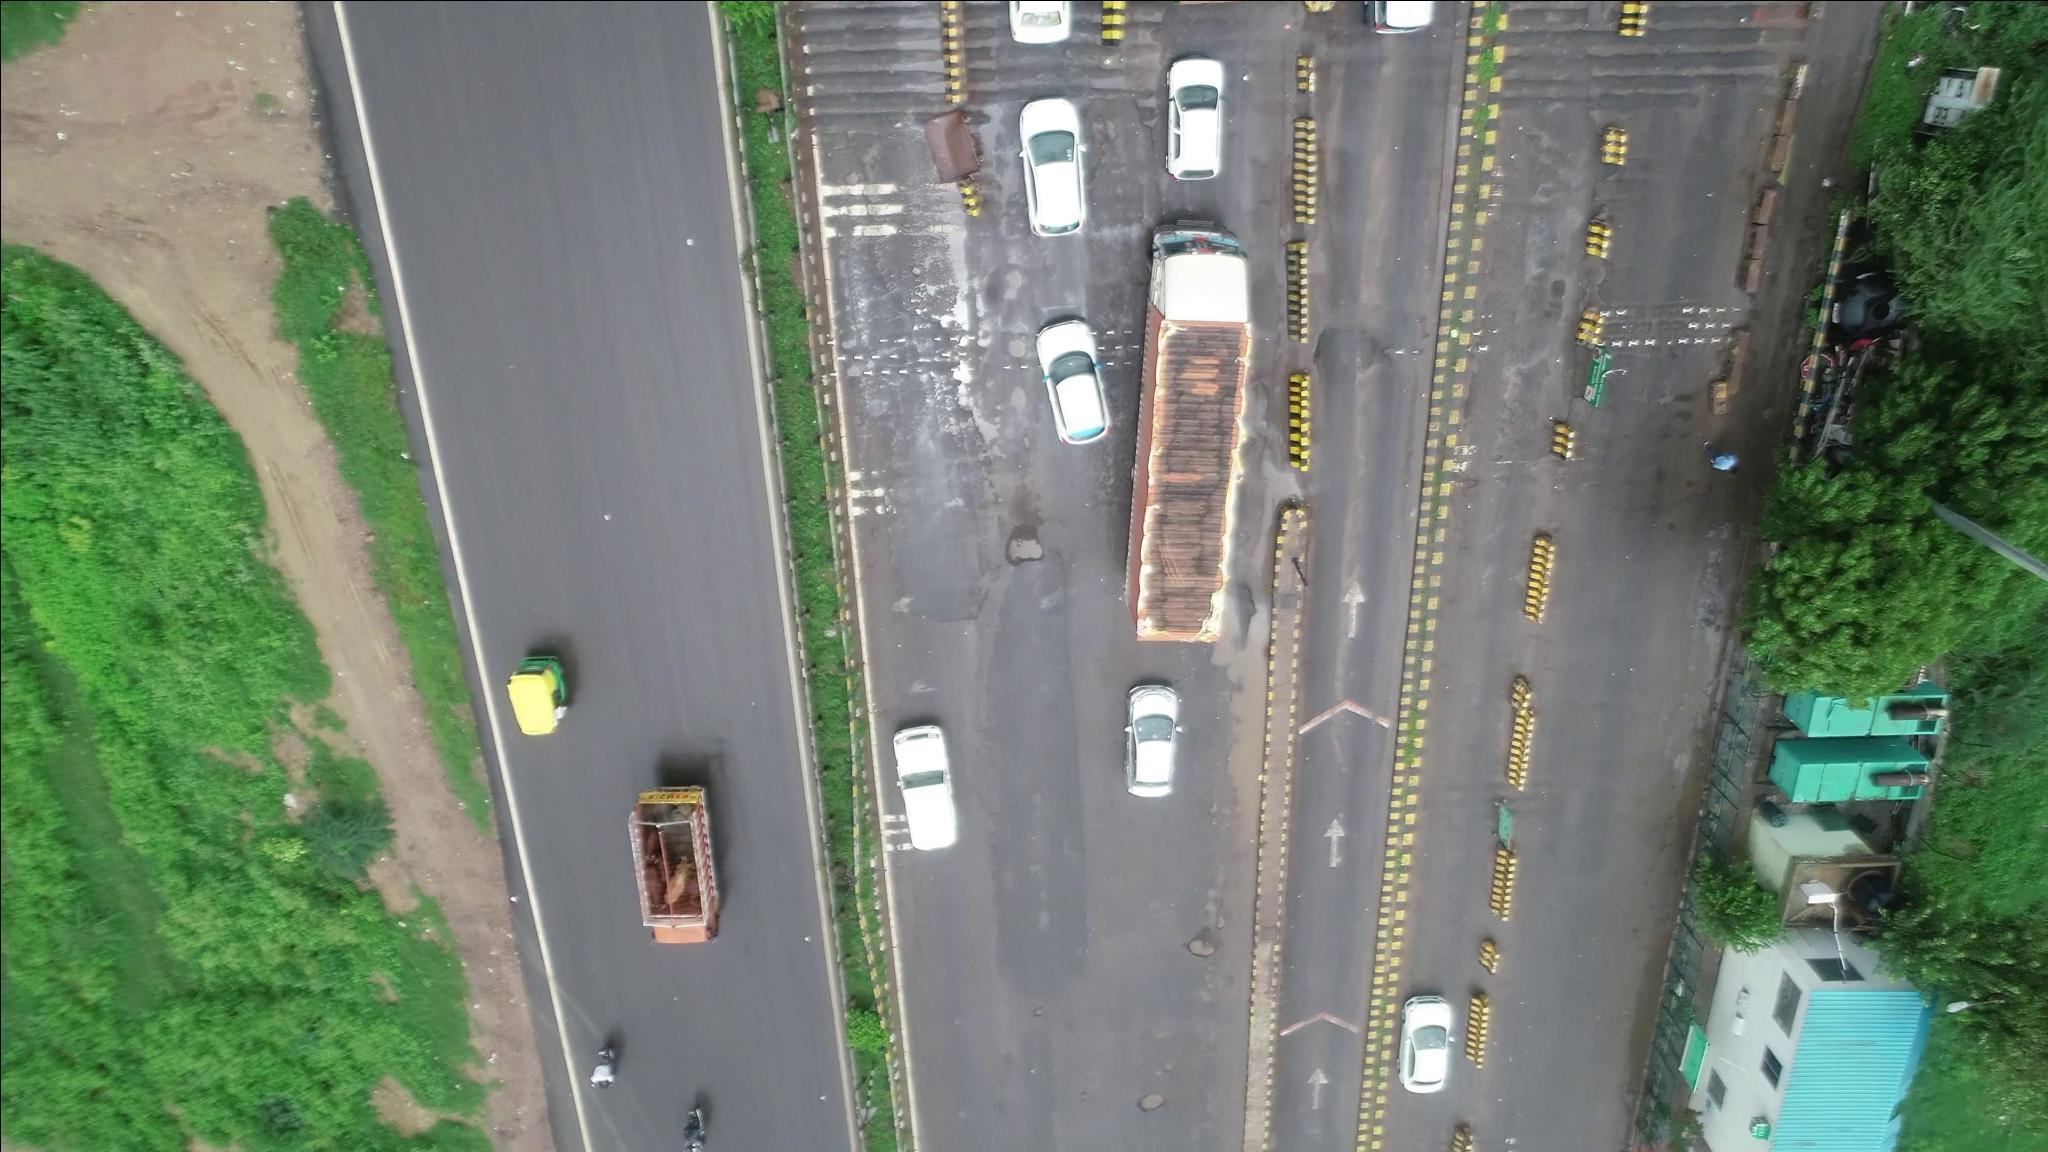Potholes: (886, 270, 1003, 437), (968, 518, 1075, 592)
